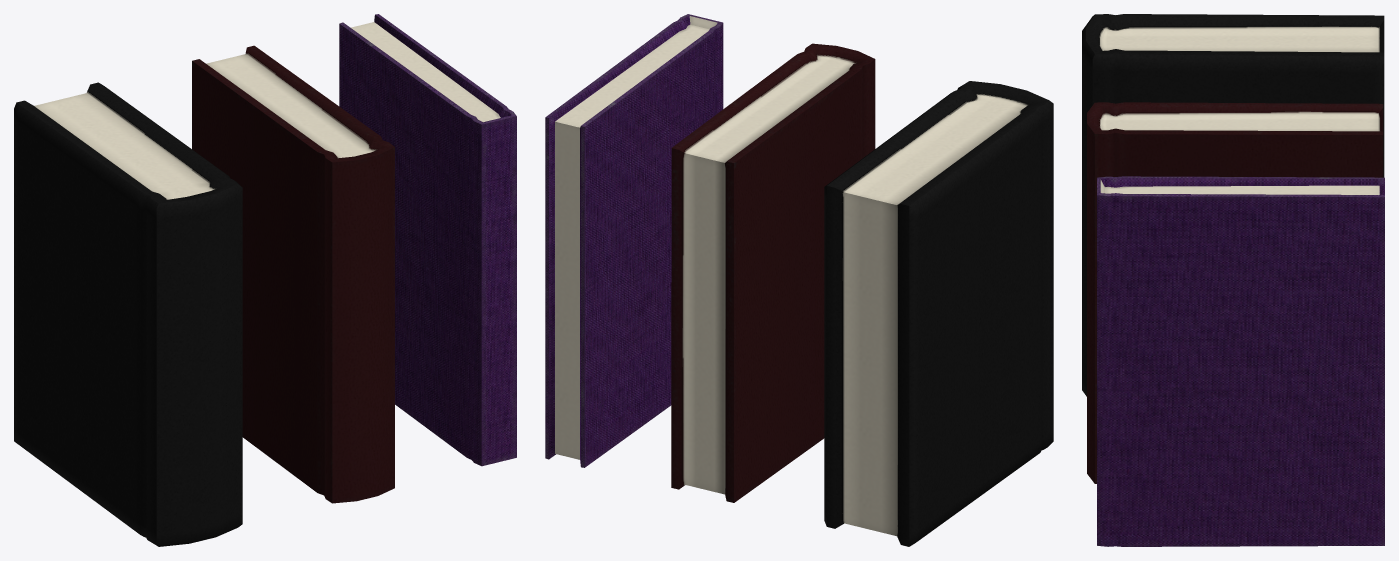
The model's file is llibres.FBX.
3 renders of one model, left to right at view 1: azimuth 30°, elevation 25°; view 2: azimuth 150°, elevation 25°; view 3: azimuth 270°, elevation 25°, orthographic. The views are drawn at different scales.
Parts seen in each view (by area): view 1: book_LP; view 2: book_LP; view 3: book_LP.
Part boxes in pixels (x1,y1,x2,y2): book_LP: (14,14,516,546); book_LP: (545,14,1053,546); book_LP: (1082,14,1384,546).
Bounding box in the file's own units: 31.58 × 28.25 × 21.99.
